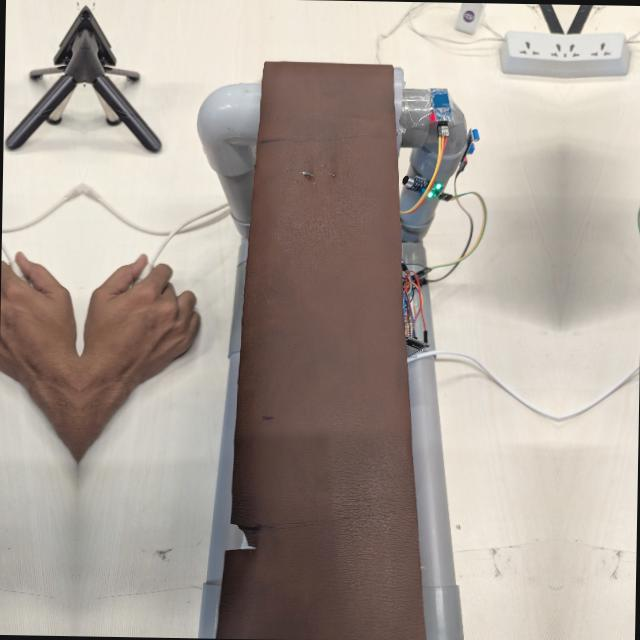belt_crack: (287, 156, 349, 192)
edge_damage: (211, 497, 254, 565)
